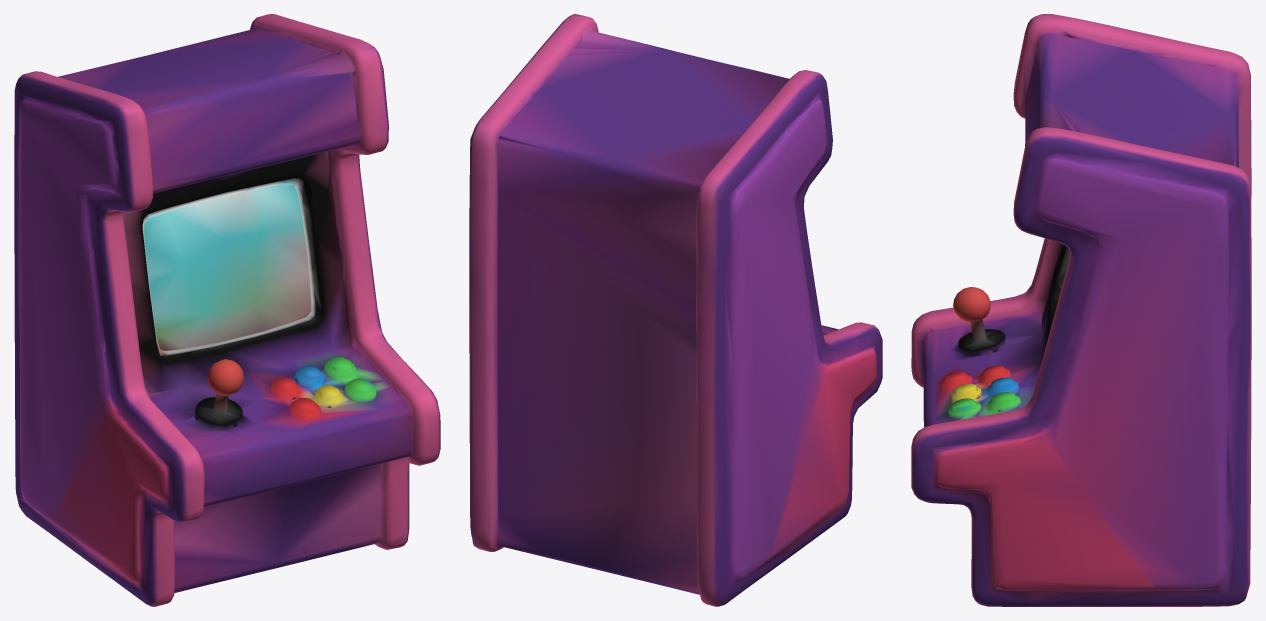
File: meshy-arcade.glb
The picture shows the model from 3 angles, left to right: view 1: azimuth 30°, elevation 25°; view 2: azimuth 150°, elevation 25°; view 3: azimuth 270°, elevation 25°; orthographic projection. The views are drawn at different scales.
Visible parts, largest first — view 1: Mesh_0; view 2: Mesh_0; view 3: Mesh_0.
Boxes of the visible parts, x1=… form: Mesh_0: x1=14, y1=14, x2=440, y2=606; Mesh_0: x1=469, y1=14, x2=882, y2=606; Mesh_0: x1=911, y1=14, x2=1251, y2=606.
Bounding box in the file's own units: 1.13 × 1.9 × 1.24.
